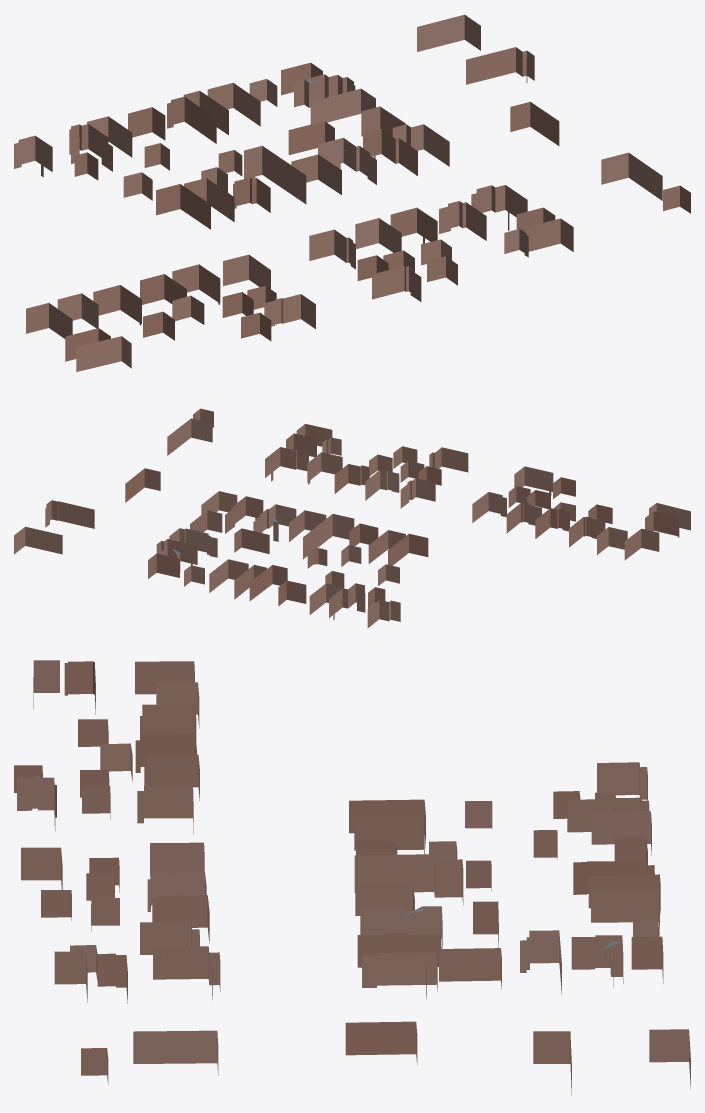
Rendered from c_1640_17827_buildings_residential.glb.
3 views of the same model, one above another, from view 1: azimuth 30°, elevation 25°; view 2: azimuth 150°, elevation 25°; view 3: azimuth 270°, elevation 25° (orthographic). The views are drawn at different scales.
Parts seen in each view (by area): view 1: geometry_0; view 2: geometry_0; view 3: geometry_0.
Boxes of the visible parts, x1=… form: geometry_0: x1=14, y1=14, x2=690, y2=371; geometry_0: x1=14, y1=408, x2=690, y2=628; geometry_0: x1=14, y1=660, x2=690, y2=1095.
Size of the model in its own units: 253 by 11.08 by 179.
